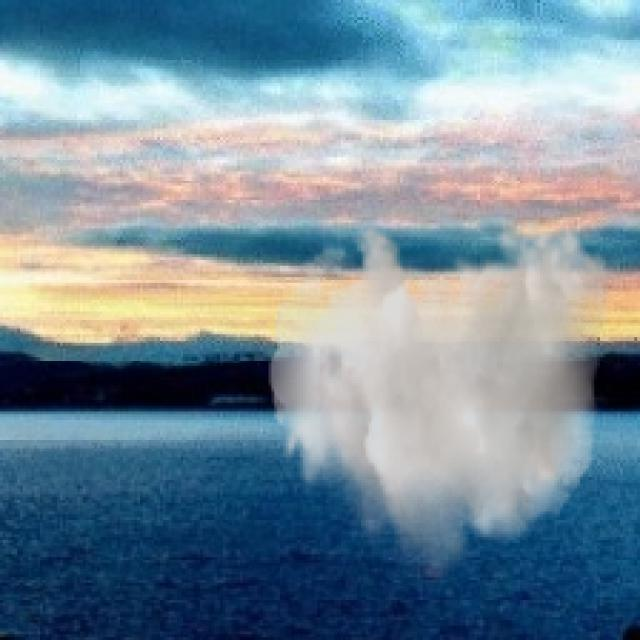Smoke: (268, 214, 612, 592)
